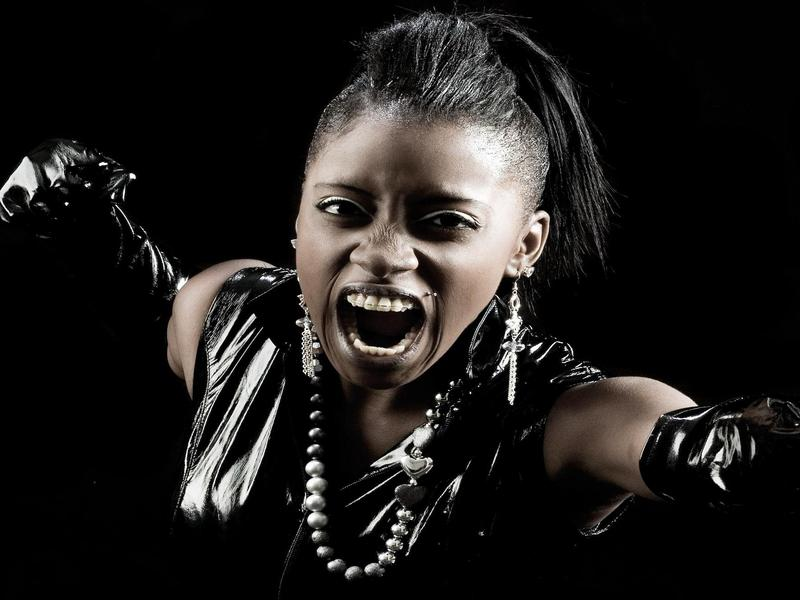person: (26, 27, 773, 600)
